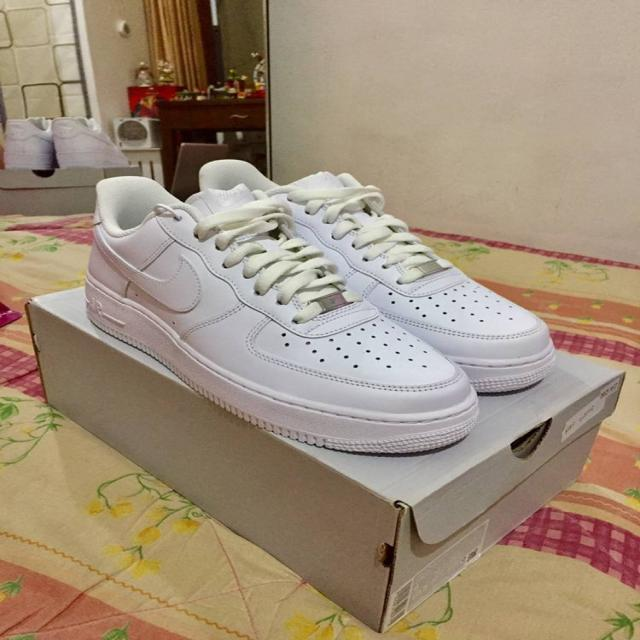nike original air force: (61, 175, 479, 458), (195, 158, 562, 394)
